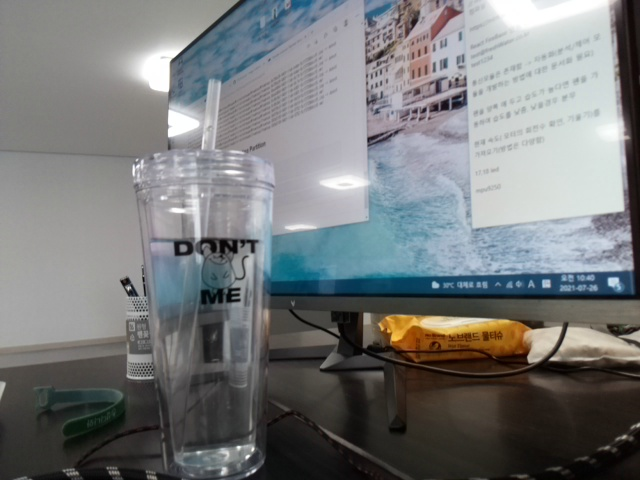Bottle2: (125, 91, 272, 480)
